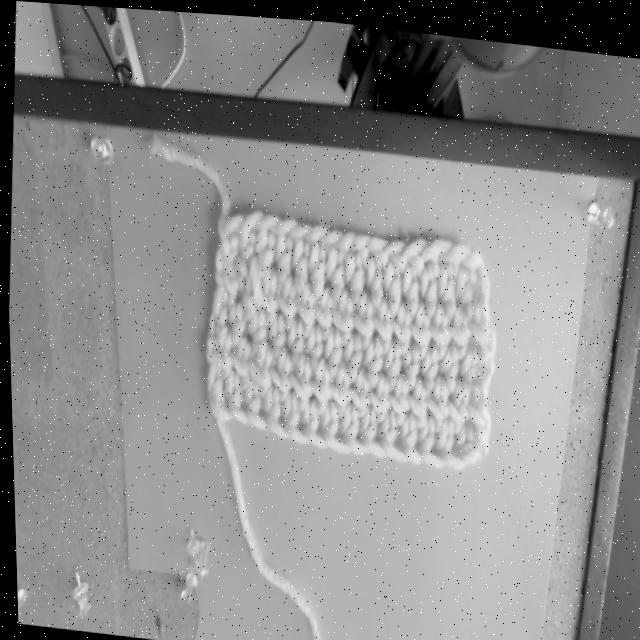ch: (410, 233, 452, 254), (434, 237, 471, 253), (237, 208, 265, 229), (397, 233, 428, 251), (218, 212, 245, 232), (270, 213, 297, 231), (252, 211, 281, 227), (462, 242, 484, 263), (344, 228, 371, 245), (302, 221, 328, 238), (331, 227, 354, 245), (365, 232, 387, 250), (287, 221, 311, 236), (321, 225, 342, 241), (382, 236, 405, 249)
hdc: (388, 247, 417, 315), (408, 251, 437, 316), (318, 396, 349, 450), (376, 402, 405, 457), (415, 408, 443, 463), (450, 254, 474, 318), (433, 414, 463, 465), (204, 363, 231, 417), (280, 386, 306, 442), (246, 336, 271, 391), (356, 403, 384, 452), (242, 255, 261, 327), (330, 283, 353, 342), (240, 374, 266, 426), (222, 369, 248, 421), (397, 405, 422, 459), (336, 399, 363, 449), (298, 394, 325, 444), (426, 297, 449, 355), (349, 286, 371, 346), (446, 298, 469, 355), (361, 246, 382, 306), (329, 351, 349, 414), (380, 249, 400, 311), (288, 351, 310, 407), (425, 372, 446, 430), (341, 246, 363, 300), (234, 226, 254, 285), (260, 384, 284, 433), (384, 369, 407, 420), (321, 321, 341, 379), (408, 296, 428, 354), (437, 255, 456, 316), (323, 243, 342, 303), (273, 230, 292, 290), (292, 278, 312, 335), (253, 224, 274, 278), (268, 345, 289, 399), (309, 353, 329, 409), (445, 374, 466, 427), (210, 323, 231, 376), (342, 326, 362, 380), (417, 338, 437, 392), (452, 417, 479, 457), (390, 295, 409, 351), (308, 238, 326, 297), (348, 363, 369, 413), (366, 368, 387, 418), (276, 272, 295, 327), (371, 293, 390, 348), (362, 329, 381, 382), (266, 308, 283, 365), (229, 335, 249, 382), (291, 236, 309, 288), (313, 283, 330, 338), (260, 264, 276, 322), (400, 335, 418, 386), (405, 372, 423, 423), (382, 334, 400, 384), (439, 338, 457, 388), (459, 342, 476, 393), (303, 319, 320, 369), (247, 304, 265, 351), (226, 297, 242, 347), (286, 317, 302, 366), (221, 233, 236, 280)
